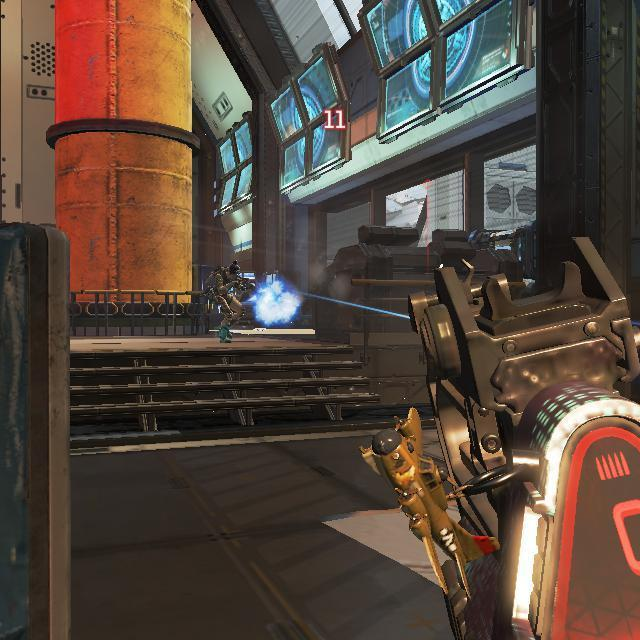avatar: (203, 259, 245, 345)
object: (251, 278, 303, 328)
